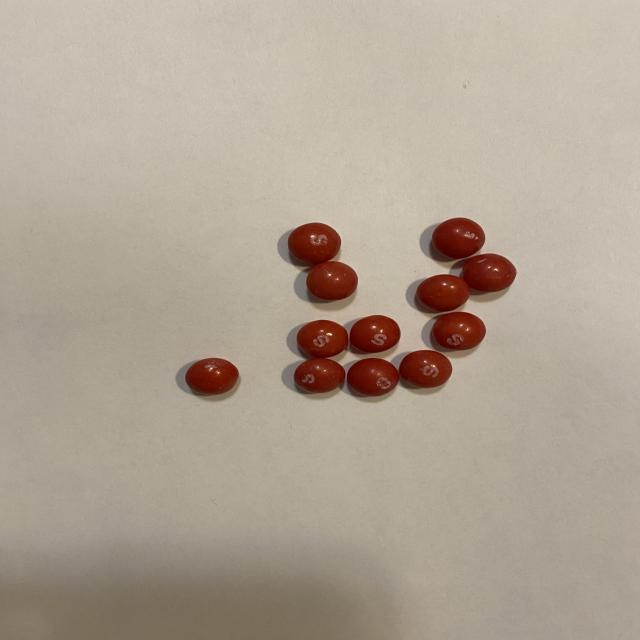smartie: (287, 222, 341, 264), (432, 217, 486, 259), (462, 253, 517, 292), (346, 358, 399, 397), (416, 274, 470, 312), (432, 312, 486, 350), (399, 350, 452, 388), (184, 358, 238, 395), (306, 261, 357, 300), (296, 320, 348, 358), (349, 315, 400, 353), (294, 358, 345, 393)
